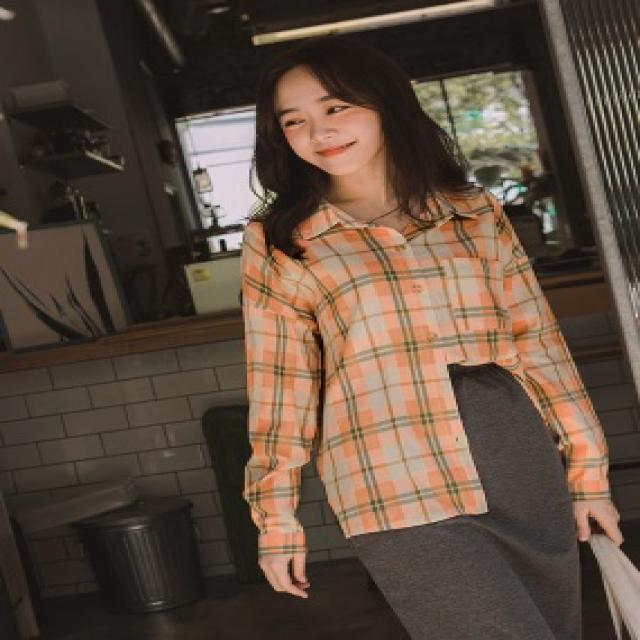plaid: (152, 193, 640, 555)
